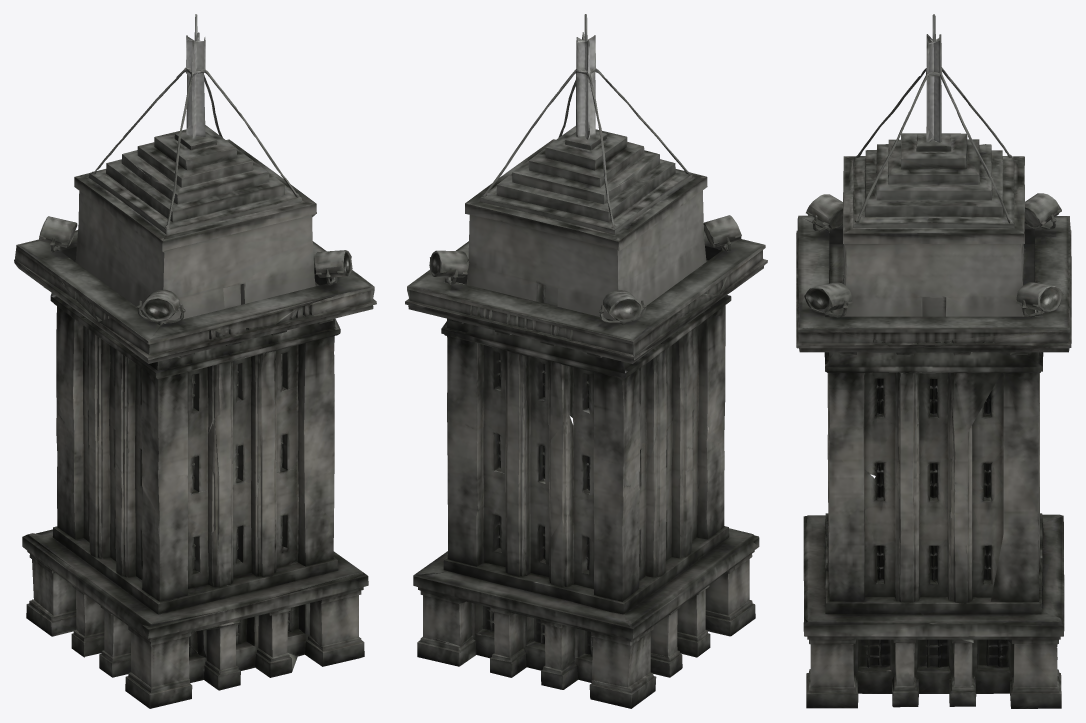
The model's file is gauturm__b.glb.
3 views of the same model, side by side, from view 1: azimuth 30°, elevation 25°; view 2: azimuth 150°, elevation 25°; view 3: azimuth 270°, elevation 25° (orthographic). The views are drawn at different scales.
Visible parts, largest first — view 1: main; view 2: main; view 3: main.
Boxes of the visible parts, box(x1,y1,x2,y2) form: main: box(14, 14, 376, 708); main: box(405, 14, 767, 708); main: box(796, 14, 1071, 708).
Size of the model in its own units: 17.91 by 46.5 by 18.1.
1 material, 1 textured.
